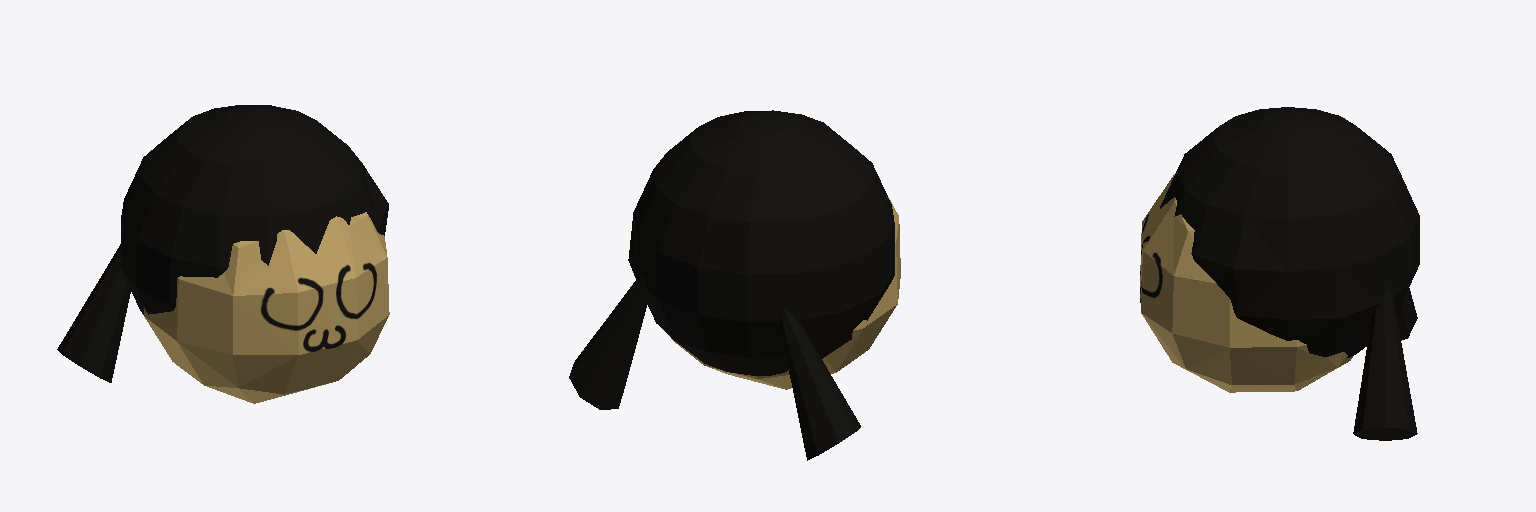
3 renders of one model, left to right at view 1: azimuth 30°, elevation 25°; view 2: azimuth 150°, elevation 25°; view 3: azimuth 270°, elevation 25°, orthographic.
Parts seen in each view (by area): view 1: head; view 2: head; view 3: head.
Boxes of the visible parts, x1=… form: head: x1=57, y1=105, x2=389, y2=403; head: x1=569, y1=110, x2=900, y2=460; head: x1=1140, y1=107, x2=1419, y2=440.
Size of the model in its own units: 4.02 by 3.75 by 3.45.
1 materials, 1 textured.